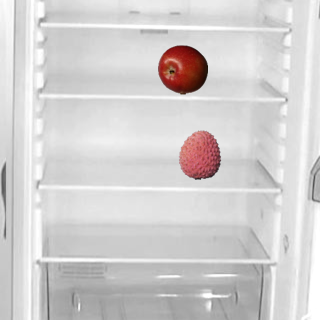Apple Braeburn: (157, 44, 207, 94)
Lychee: (174, 129, 224, 179)
